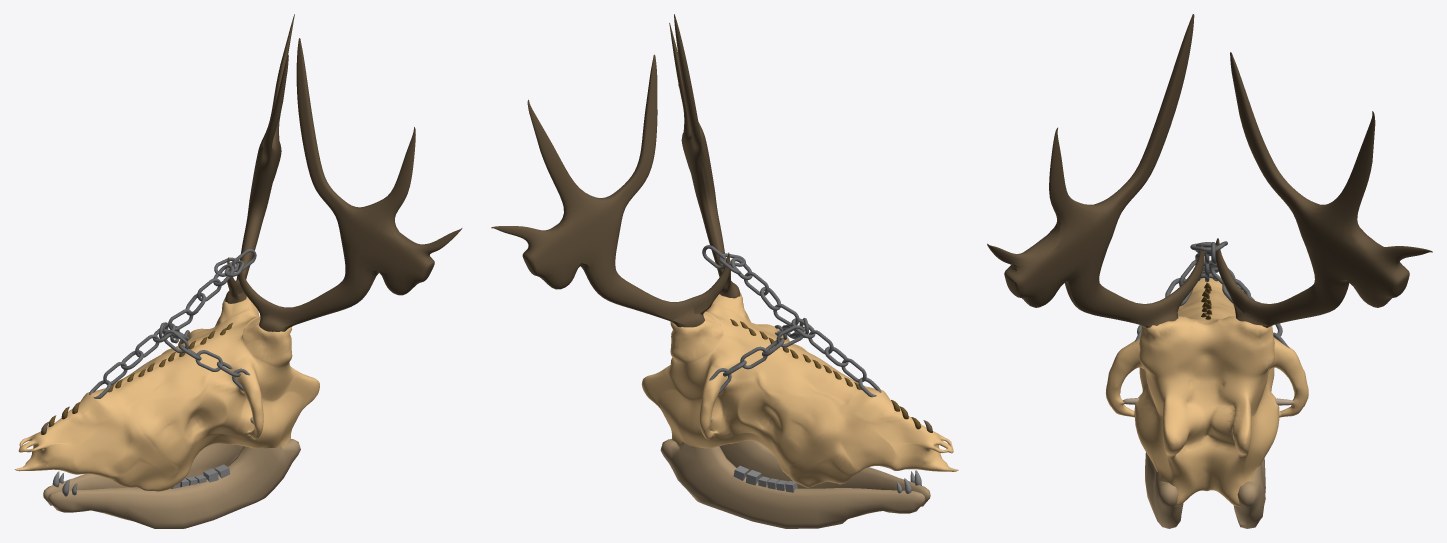
The model's file is Deer skull boss.fbx.
3 renders of one model, left to right at view 1: azimuth 30°, elevation 25°; view 2: azimuth 150°, elevation 25°; view 3: azimuth 270°, elevation 25°, orthographic. The views are drawn at different scales.
Parts seen in each view (by area): view 1: sKULL, Antlers, jAW, Chains, Teeth, Horns; view 2: sKULL, Antlers, jAW, Chains, Teeth, Horns; view 3: Antlers, sKULL, jAW, Chains.
Boxes of the visible parts, x1,y1,x2,y2 form: sKULL: (14,296,319,491); Antlers: (225,14,462,331); jAW: (43,439,300,528); Chains: (89,249,256,398); Teeth: (52,464,230,496); Horns: (48,323,232,426); sKULL: (641,292,958,487); Antlers: (491,14,740,327); jAW: (660,439,930,528); Chains: (702,245,881,397); Teeth: (733,465,921,493); Horns: (730,319,921,429); Antlers: (987,14,1432,328); sKULL: (1105,278,1308,506); jAW: (1145,452,1265,528); Chains: (1135,241,1289,348).
Size of the model in its own units: 1350 by 1599 by 1178.
